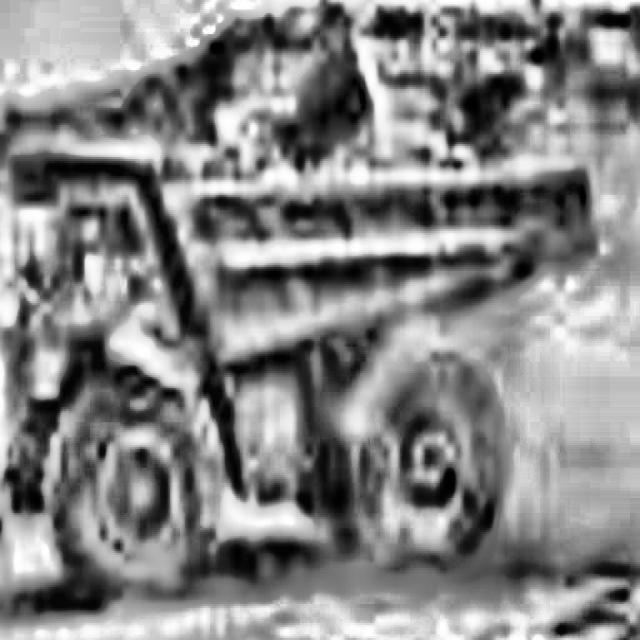dump_truck: (0, 75, 597, 640)
